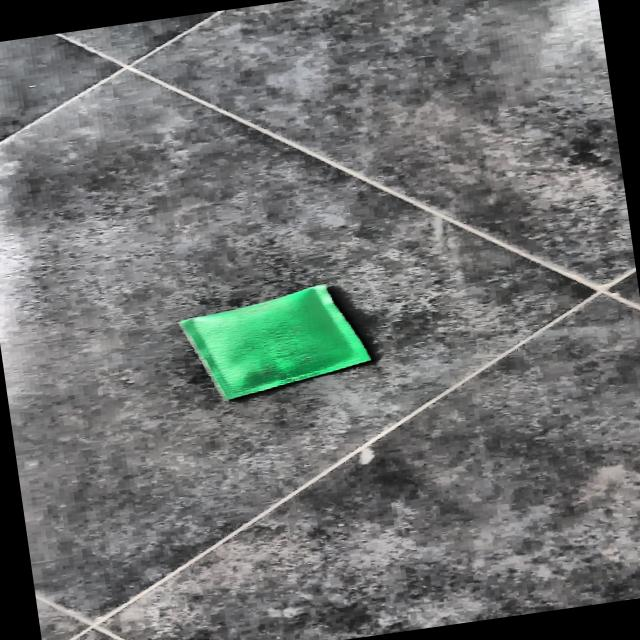payload: (181, 285, 372, 400)
